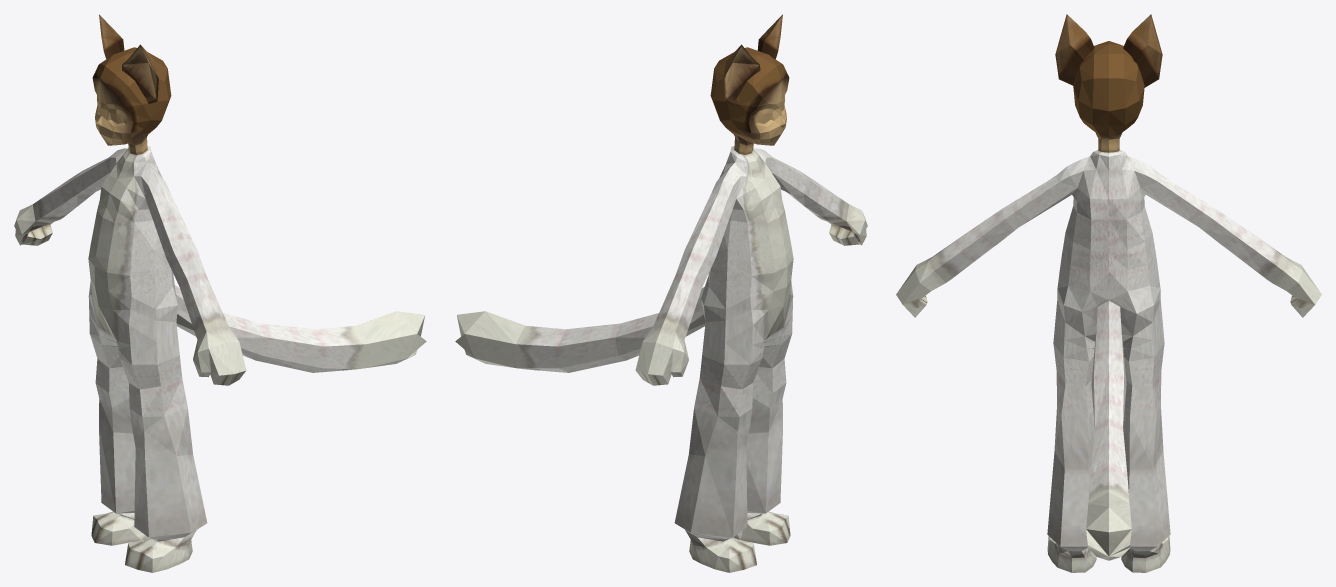
File: Cat_fur.obj
3 views of the same model, side by side, from view 1: azimuth 30°, elevation 25°; view 2: azimuth 150°, elevation 25°; view 3: azimuth 270°, elevation 25° (orthographic).
Visible parts, largest first — view 1: Cat_fur_tri; view 2: Cat_fur_tri; view 3: Cat_fur_tri.
Boxes of the visible parts, x1,y1,x2,y2 form: Cat_fur_tri: (14, 14, 426, 572); Cat_fur_tri: (455, 14, 867, 572); Cat_fur_tri: (896, 14, 1321, 572).
Bounding box in the file's own units: 1.08 × 1.64 × 1.19.
Materials: 1 (1 with a texture image).
